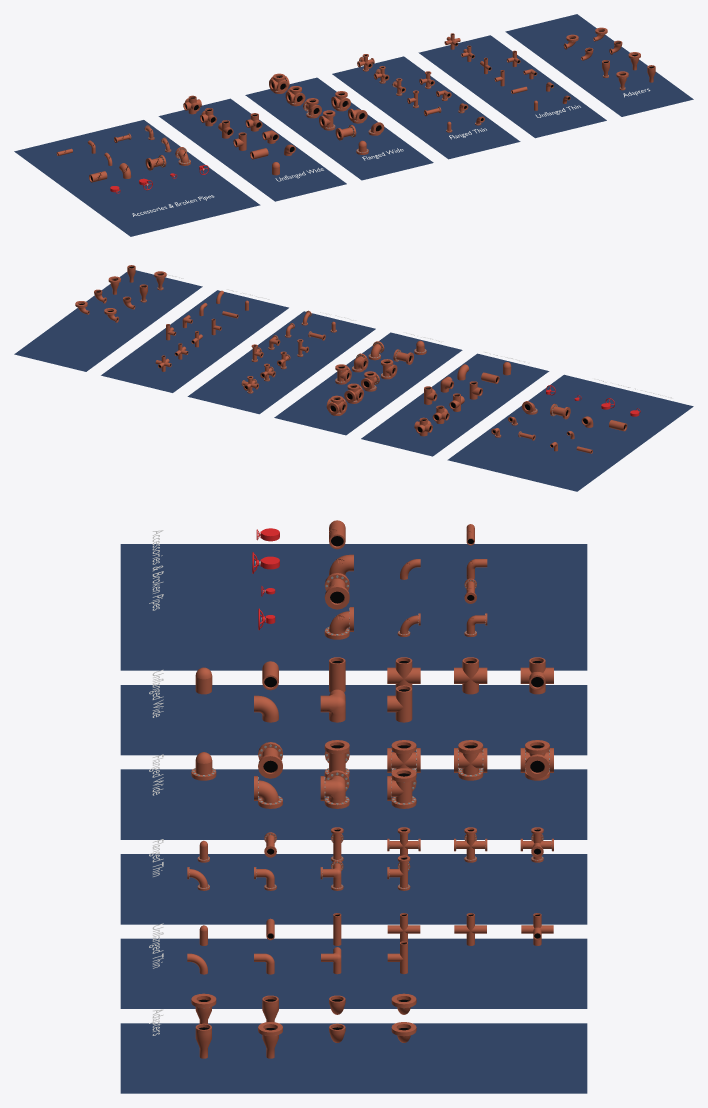
The model's file is pipe collection.fbx.
The picture shows the model from 3 angles, top to bottom: view 1: azimuth 30°, elevation 25°; view 2: azimuth 150°, elevation 25°; view 3: azimuth 270°, elevation 25°; orthographic projection. The views are drawn at different scales.
Visible parts, largest first — view 1: Display Mat, Display Mat.002, Display Mat.005, Display Mat.001, Display Mat.003, Display Mat.004; view 2: Display Mat, Display Mat.005, Display Mat.002, Display Mat.001, Display Mat.003, Display Mat.004; view 3: Display Mat, Display Mat.005, Display Mat.001, Display Mat.002, Display Mat.004, Display Mat.003, 5-way Pipe Wide Flanged, 6-way Pipe Wide Flanged, Double-T Pipe Wide Flanged, Tri-corner Pipe Wide Flanged, Cross-shaped Pipe Wide Flanged, 6-way Pipe Wide (+1 smaller).
Part boxes in pixels (bbox=[...]): Display Mat: bbox=[14, 120, 260, 236]; Display Mat.002: bbox=[418, 35, 606, 138]; Display Mat.005: bbox=[505, 14, 693, 116]; Display Mat.001: bbox=[332, 56, 520, 159]; Display Mat.003: bbox=[158, 98, 346, 201]; Display Mat.004: bbox=[245, 77, 433, 180]; Display Mat: bbox=[447, 374, 693, 491]; Display Mat.005: bbox=[14, 270, 202, 371]; Display Mat.002: bbox=[101, 290, 288, 392]; Display Mat.001: bbox=[187, 311, 375, 414]; Display Mat.003: bbox=[361, 353, 549, 456]; Display Mat.004: bbox=[274, 332, 462, 435]; Display Mat: bbox=[120, 544, 587, 670]; Display Mat.005: bbox=[120, 1023, 587, 1093]; Display Mat.001: bbox=[120, 854, 587, 924]; Display Mat.002: bbox=[120, 938, 587, 1008]; Display Mat.004: bbox=[120, 769, 587, 839]; Display Mat.003: bbox=[120, 685, 587, 755]; 5-way Pipe Wide Flanged: bbox=[454, 740, 487, 780]; 6-way Pipe Wide Flanged: bbox=[520, 740, 553, 780]; Double-T Pipe Wide Flanged: bbox=[387, 768, 416, 808]; Tri-corner Pipe Wide Flanged: bbox=[320, 770, 349, 808]; Cross-shaped Pipe Wide Flanged: bbox=[387, 740, 420, 772]; 6-way Pipe Wide: bbox=[520, 657, 553, 694].
Bounding box in the file's own units: 7800 × 300 × 2800.
